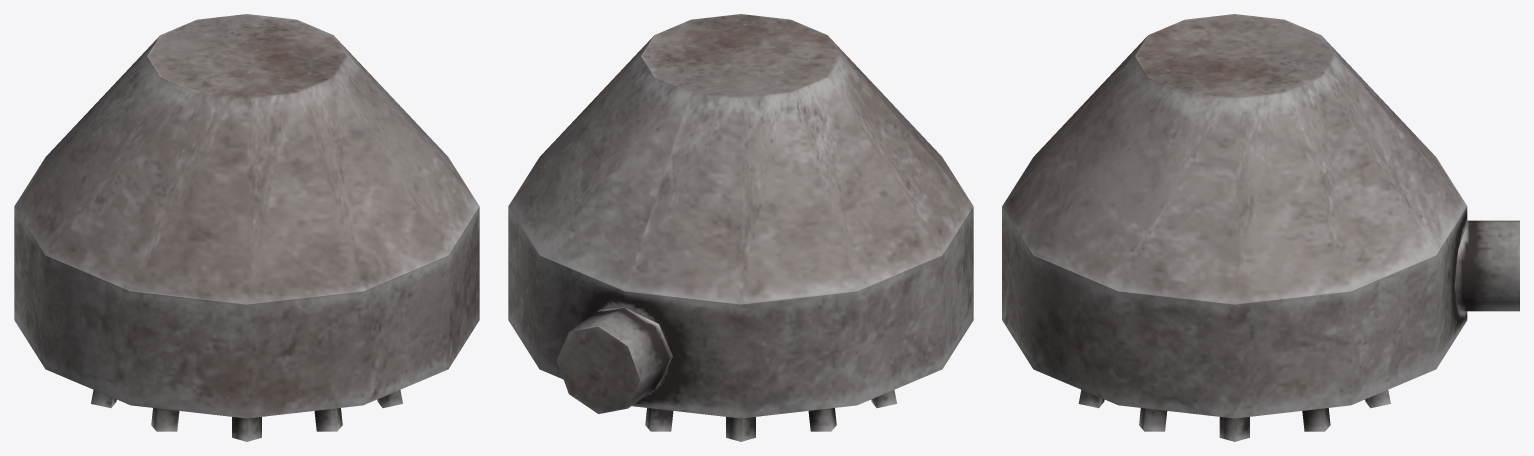
The model's file is NM_ThinTube_Leica.fbx.
The picture shows the model from 3 angles, left to right: view 1: azimuth 30°, elevation 25°; view 2: azimuth 150°, elevation 25°; view 3: azimuth 270°, elevation 25°; orthographic projection.
Parts seen in each view (by area): view 1: Shower_Leica02_low, Shower_Leica01_low; view 2: Shower_Leica02_low, Shower_Leica01_low; view 3: Shower_Leica02_low, Shower_Leica01_low.
Part boxes in pixels (<box>): Shower_Leica02_low: <box>14,14,479,418</box>; Shower_Leica01_low: <box>91,390,402,441</box>; Shower_Leica02_low: <box>508,14,973,418</box>; Shower_Leica01_low: <box>645,390,896,441</box>; Shower_Leica02_low: <box>1002,14,1519,418</box>; Shower_Leica01_low: <box>1078,390,1390,441</box>.
Bounding box in the file's own units: 27.09 × 20.71 × 30.14.
